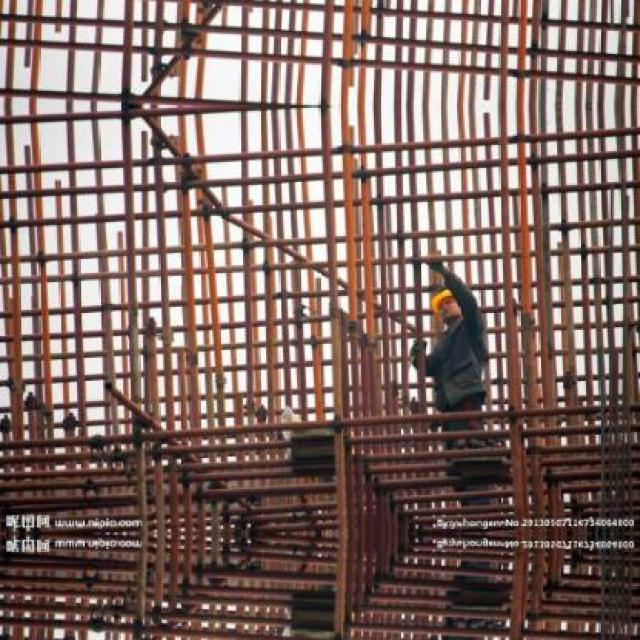helmet: (425, 283, 470, 323)
